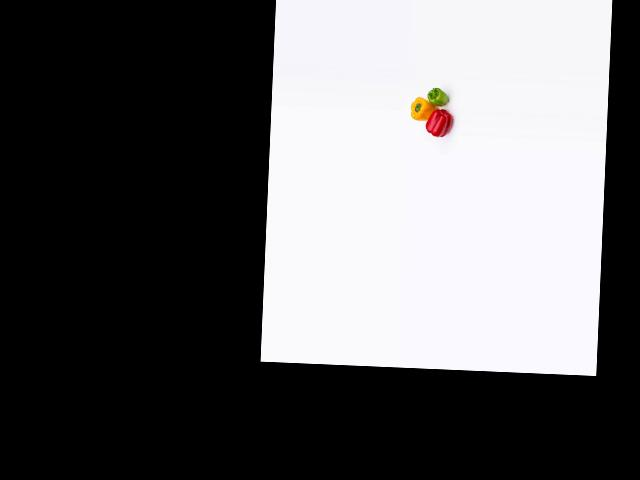bell_pepper: (425, 82, 450, 107)
